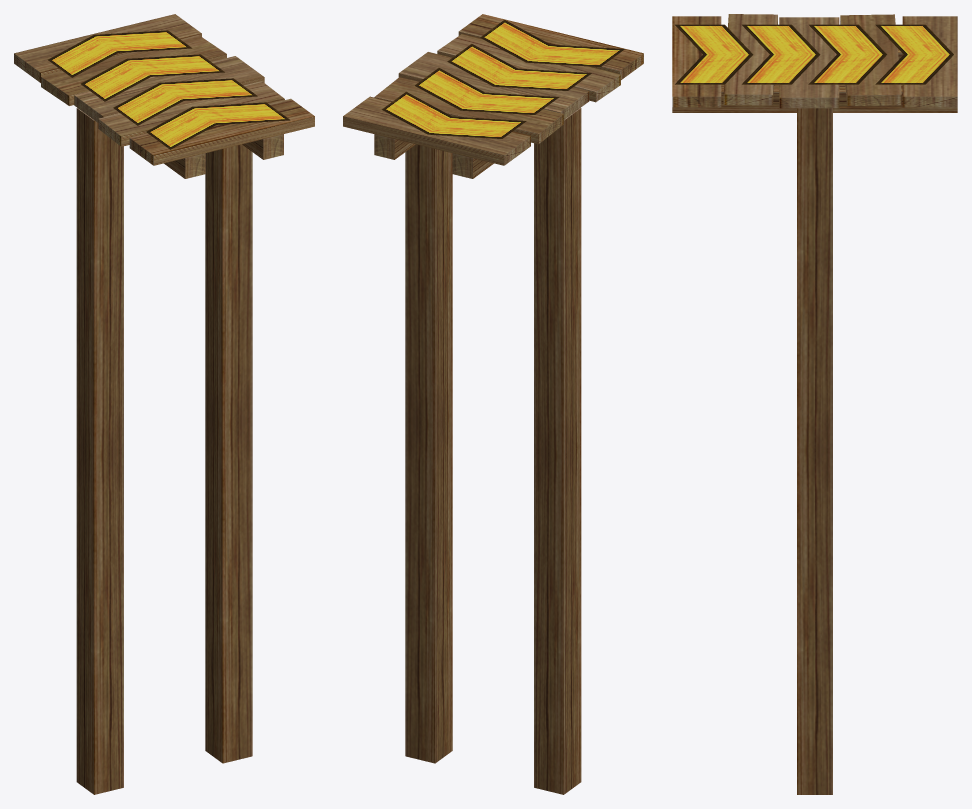
The model's file is JumpAscent.FBX.
3 renders of one model, left to right at view 1: azimuth 30°, elevation 25°; view 2: azimuth 150°, elevation 25°; view 3: azimuth 270°, elevation 25°, orthographic. The views are drawn at different scales.
Visible parts, largest first — view 1: poles, JumpAscent; view 2: poles, JumpAscent; view 3: JumpAscent, poles.
Part boxes in pixels (x1,y1,x2,y2): poles: [76, 108, 252, 794]; JumpAscent: [14, 14, 314, 178]; poles: [405, 108, 581, 794]; JumpAscent: [343, 14, 643, 178]; JumpAscent: [672, 14, 957, 112]; poles: [797, 108, 832, 794].
Size of the model in its own units: 192 by 746 by 276.
